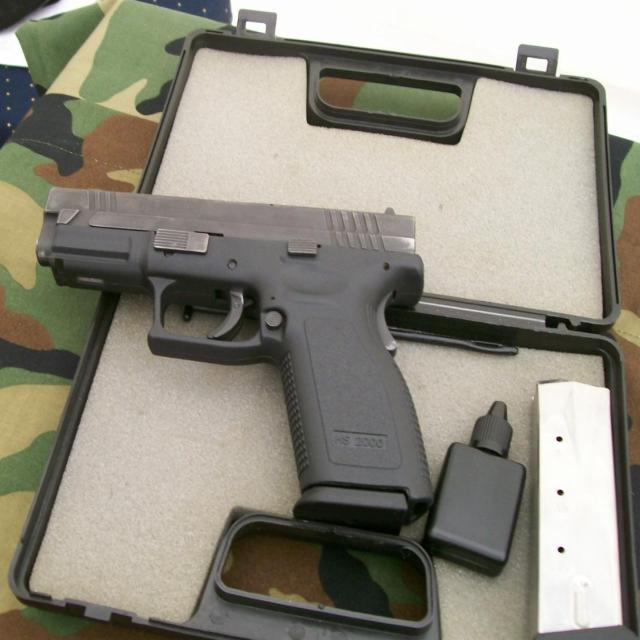pistol: (36, 186, 432, 539)
